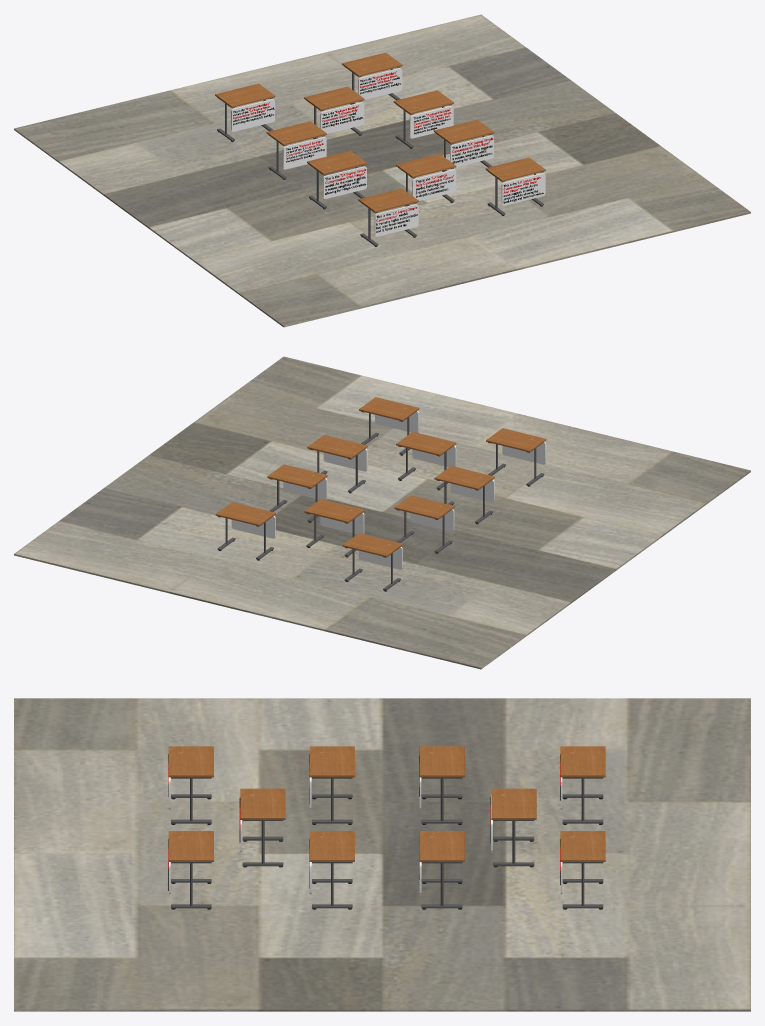
Rendered from LX Laptop Showcase.fbx.
3 views of the same model, one above another, from view 1: azimuth 30°, elevation 25°; view 2: azimuth 150°, elevation 25°; view 3: azimuth 270°, elevation 25° (orthographic). The views are drawn at different scales.
Parts seen in each view (by area): view 1: Platform, Table To Showcase LX Laptop #1, Table To Showcase LX Laptop #4, Sign #1, Sign #4, Table To Showcase LX Laptop #2, Sign #2, Sign #7, Sign #10, Sign #5, Sign #8, Table To Showcase LX Laptop #7 (+9 smaller); view 2: Platform, Table To Showcase LX Laptop #6, Table To Showcase LX Laptop #8, Table To Showcase LX Laptop #7, Table To Showcase LX Laptop #1, Table To Showcase LX Laptop #3, Table To Showcase LX Laptop #10, Table To Showcase LX Laptop #9, Table To Showcase LX Laptop #5, Table To Showcase LX Laptop #2, Table To Showcase LX Laptop #4, Sign #1 (+9 smaller); view 3: Platform, Table To Showcase LX Laptop #10, Table To Showcase LX Laptop #5, Table To Showcase LX Laptop #6, Table To Showcase LX Laptop #7, Table To Showcase LX Laptop #9, Table To Showcase LX Laptop #8, Table To Showcase LX Laptop #1, Table To Showcase LX Laptop #2, Table To Showcase LX Laptop #4, Table To Showcase LX Laptop #3.
Boxes of the visible parts, x1,y1,x2,y2 form: Platform: (14,14,750,327); Table To Showcase LX Laptop #1: (358,188,418,246); Table To Showcase LX Laptop #4: (485,157,545,215); Sign #1: (374,204,418,236); Sign #4: (501,173,545,205); Table To Showcase LX Laptop #2: (307,151,367,209); Sign #2: (323,166,366,198); Sign #7: (231,99,274,131); Sign #10: (320,102,364,133); Sign #5: (412,169,456,200); Sign #8: (358,68,402,99); Table To Showcase LX Laptop #7: (215,83,275,141); Platform: (14,356,750,669); Table To Showcase LX Laptop #6: (394,495,454,553); Table To Showcase LX Laptop #8: (215,502,275,560); Table To Showcase LX Laptop #7: (342,533,402,591); Table To Showcase LX Laptop #1: (486,428,546,486); Table To Showcase LX Laptop #3: (307,435,367,493); Table To Showcase LX Laptop #10: (304,499,364,557); Table To Showcase LX Laptop #9: (267,464,327,522); Table To Showcase LX Laptop #5: (396,432,456,490); Table To Showcase LX Laptop #2: (434,466,494,524); Table To Showcase LX Laptop #4: (359,397,419,455); Sign #1: (502,442,546,464); Platform: (14,698,750,1011); Table To Showcase LX Laptop #10: (491,788,536,867); Table To Showcase LX Laptop #5: (240,788,285,867); Table To Showcase LX Laptop #6: (419,746,464,824); Table To Showcase LX Laptop #7: (560,746,605,824); Table To Showcase LX Laptop #9: (419,831,464,909); Table To Showcase LX Laptop #8: (560,831,605,909); Table To Showcase LX Laptop #1: (168,746,213,824); Table To Showcase LX Laptop #2: (309,746,354,824); Table To Showcase LX Laptop #4: (168,831,213,909); Table To Showcase LX Laptop #3: (309,831,354,909).
Size of the model in its own units: 61.71 by 4.88 by 61.71.
7 materials, 2 textured.
